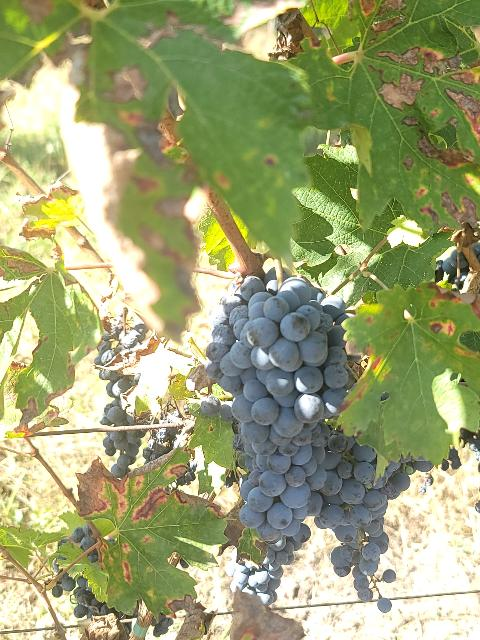grapes: (206, 276, 350, 454), (315, 442, 416, 601), (239, 421, 355, 550), (94, 309, 149, 426)
